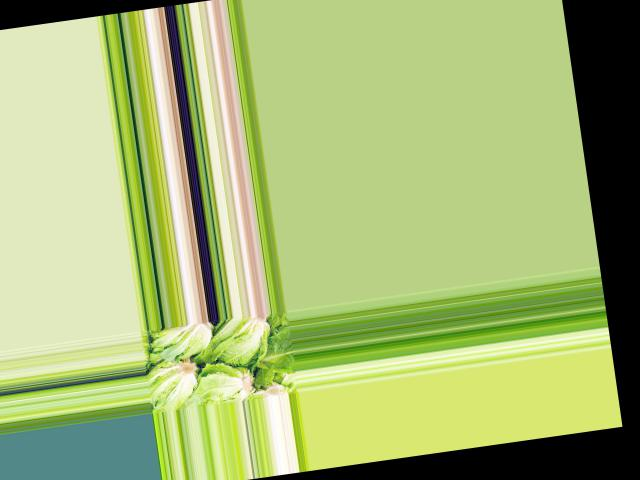lettuce: (257, 338, 297, 377)
